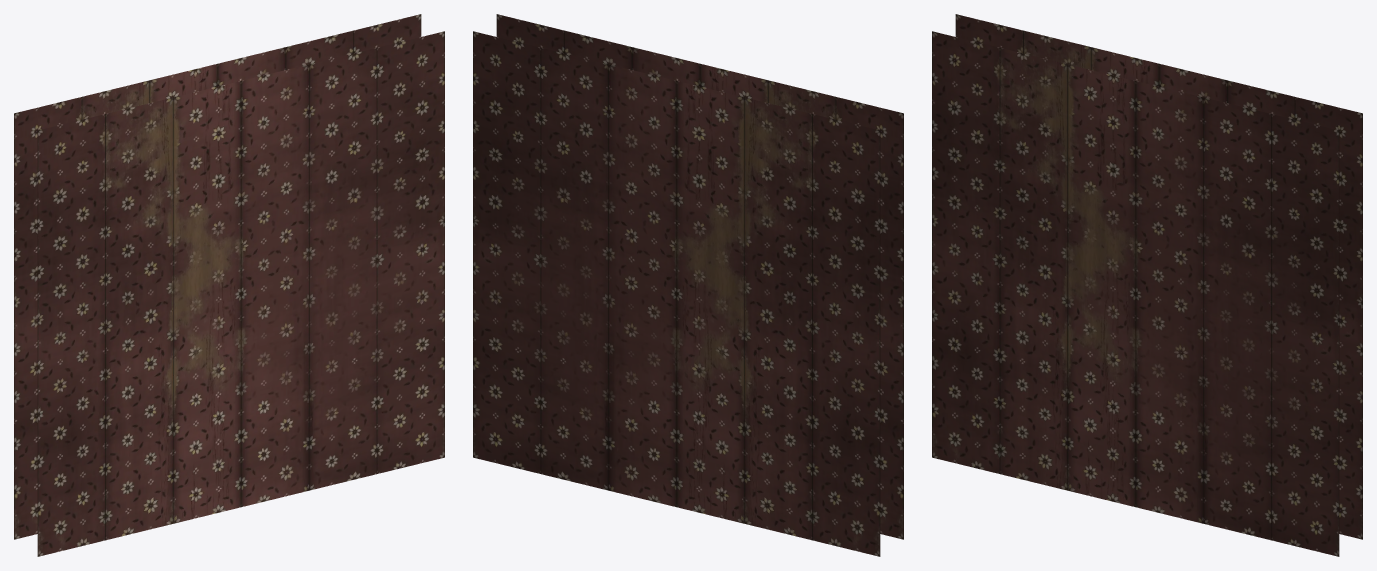
File: painted-ceiling.glb
3 views of the same model, side by side, from view 1: azimuth 30°, elevation 25°; view 2: azimuth 150°, elevation 25°; view 3: azimuth 330°, elevation 25° (orthographic).
Parts seen in each view (by area): view 1: Soffit_painted__PATTERN-CONFIRMED.002; view 2: Soffit_painted__PATTERN-CONFIRMED.002; view 3: Soffit_painted__PATTERN-CONFIRMED.002.
Part boxes in pixels (x1,y1,x2,y2): Soffit_painted__PATTERN-CONFIRMED.002: [14, 14, 444, 556]; Soffit_painted__PATTERN-CONFIRMED.002: [473, 14, 903, 556]; Soffit_painted__PATTERN-CONFIRMED.002: [932, 14, 1362, 556].
Size of the model in its own units: 1.8 by 1.8 by 0.18.
1 material, 1 textured.
